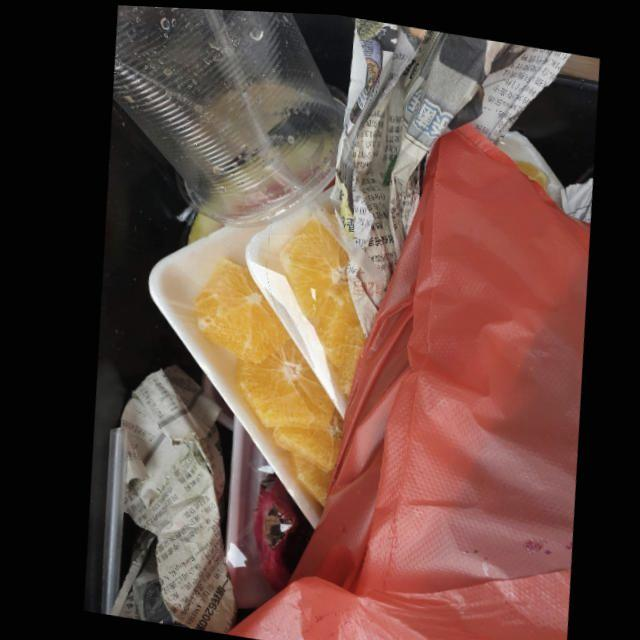paper: (327, 14, 573, 274), (114, 363, 228, 632)
plastic_bag: (217, 121, 587, 640)
plastic_container: (111, 4, 345, 224)
